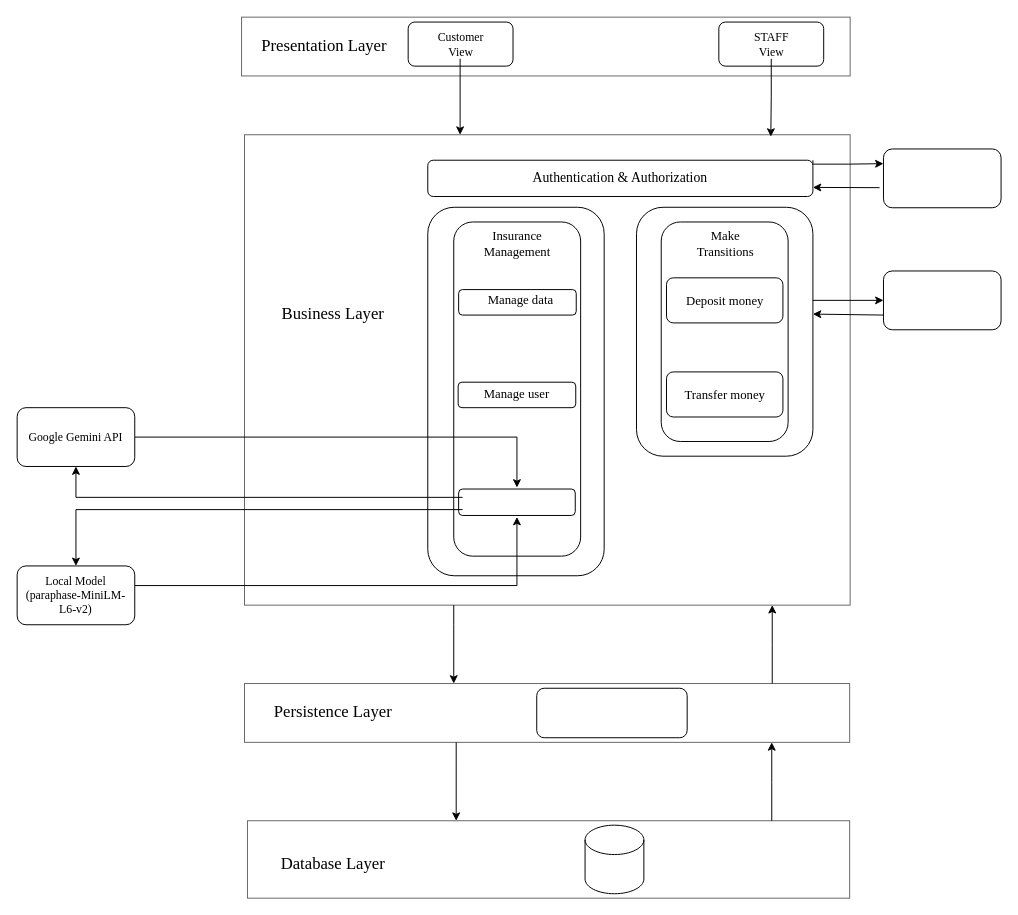
The diagram is 1018 pixels wide and 915 high, and some of its shapes have lost their labels. Each missing label, with the box of its shape:
Data Access Component: (536, 687, 687, 738)
Manage chatbox: (458, 488, 575, 515)
MongoDB: (584, 824, 644, 894)
OAUTH2 System Provided by Google: (882, 148, 1001, 208)
Zalopay: (882, 270, 1001, 330)
